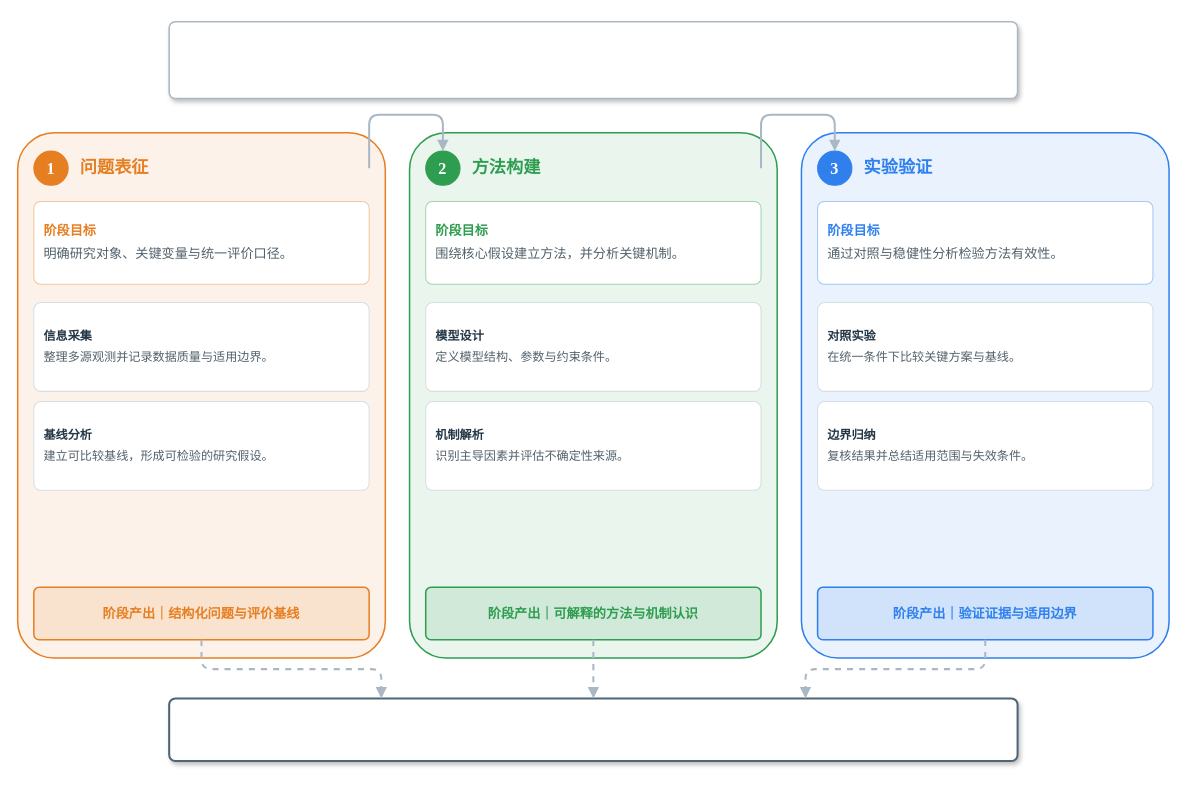
Image size: 1188x787. Some labels were removed from this diagram. Here are the shapes that lost their labels. From the top down, the centre of each, then its label:
point 594,61: 研究技术路线图 问题表征 → 方法构建 → 实验验证
point 594,731: 综合目标｜ 形成可复用的方法体系、验证证据与边界说明
